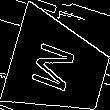M_E: (32, 38, 85, 97)
